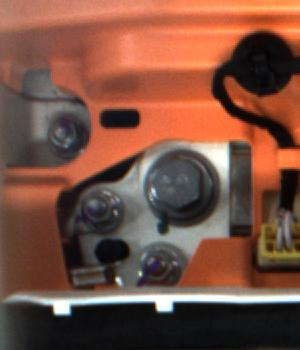nut_b: (143, 148, 225, 228)
screw_s: (133, 242, 189, 295), (82, 190, 122, 235), (46, 117, 81, 153)
